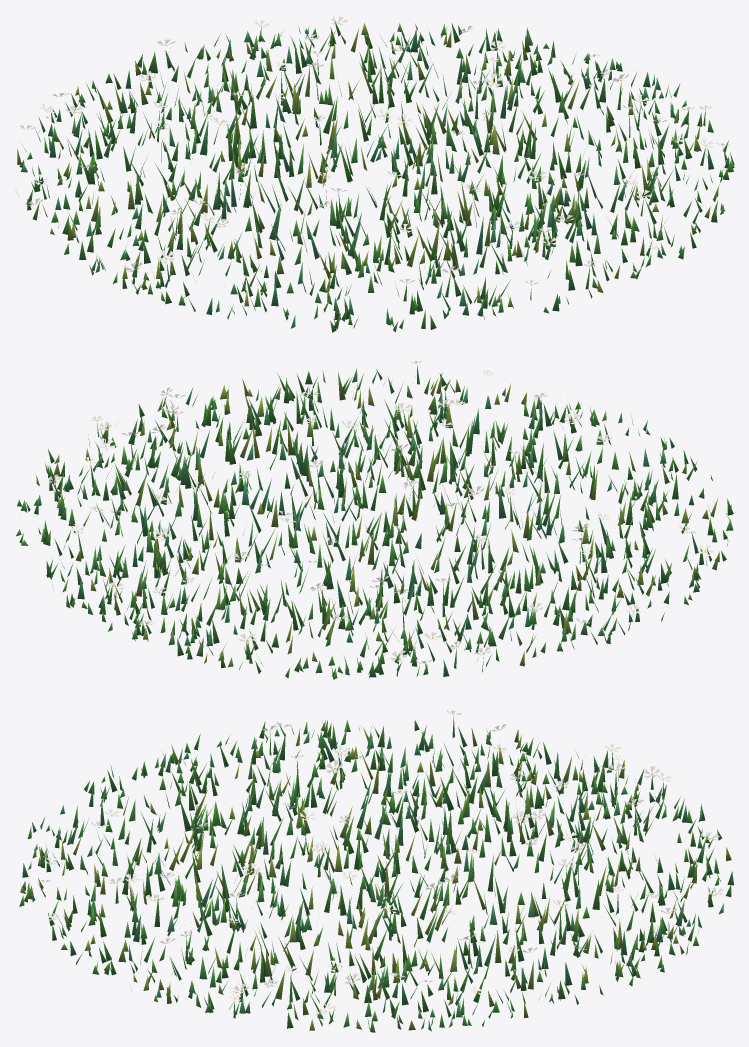
3 renders of one model, top to bottom at view 1: azimuth 30°, elevation 25°; view 2: azimuth 150°, elevation 25°; view 3: azimuth 270°, elevation 25°, orthographic.
Parts seen in each view (by area): view 1: gr3_b; view 2: gr3_b; view 3: gr3_b.
Boxes of the visible parts, left/top/right/bottom form: gr3_b: left=17, top=16, right=734, bottom=332; gr3_b: left=16, top=361, right=733, bottom=679; gr3_b: left=19, top=710, right=733, bottom=1032.
Bounding box in the file's own units: 7.88 × 0.4998 × 7.81.
Materials: 1 (1 with a texture image).
